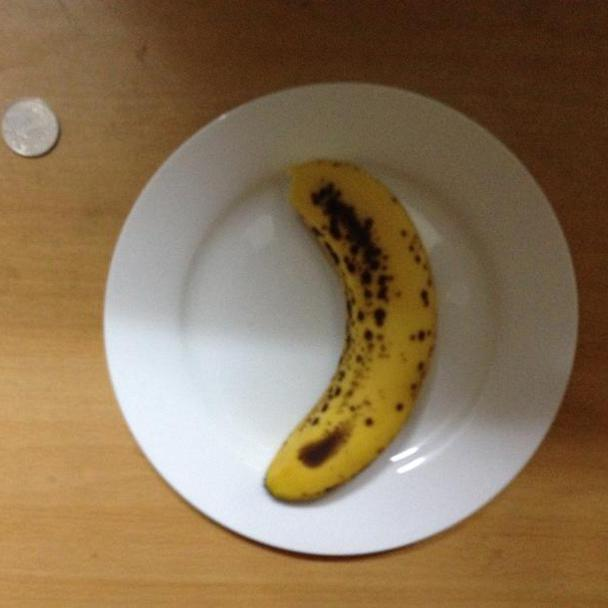banana: (260, 159, 439, 505)
